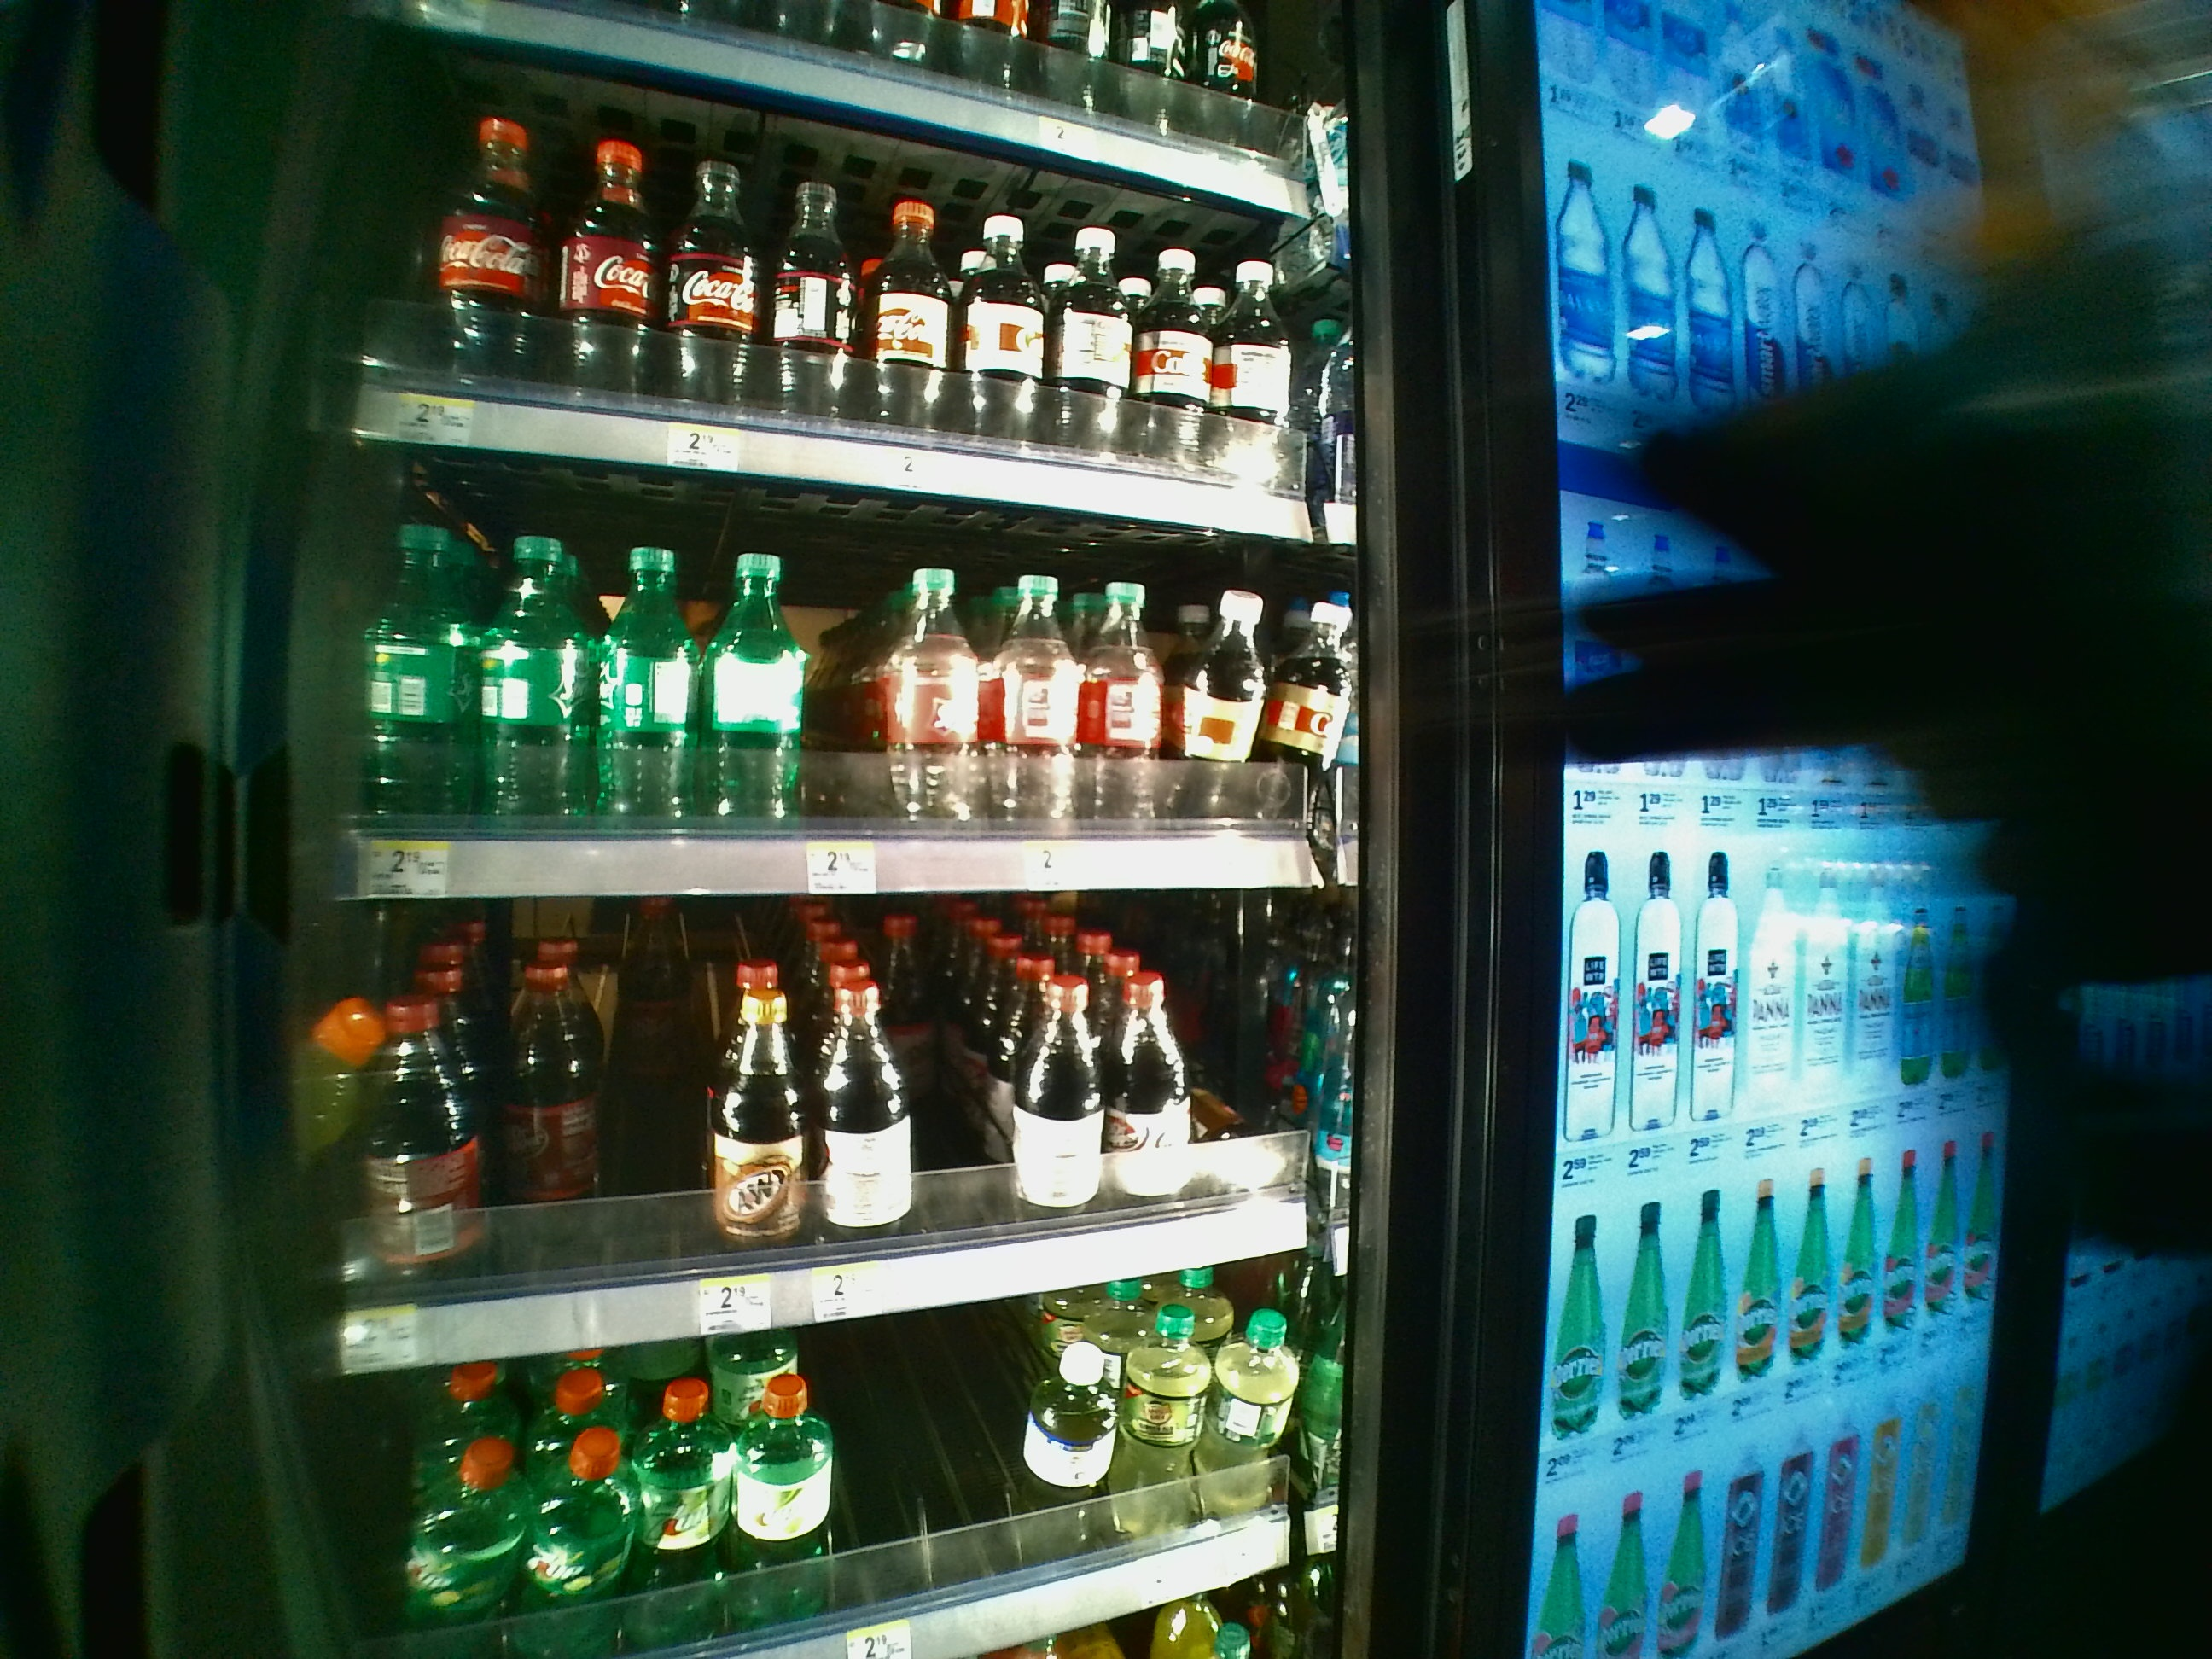shelf: (340, 903, 1360, 1298), (338, 518, 1364, 890), (374, 129, 1327, 505)
